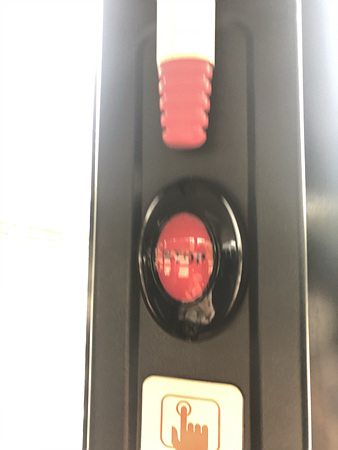bell: (138, 177, 246, 342)
